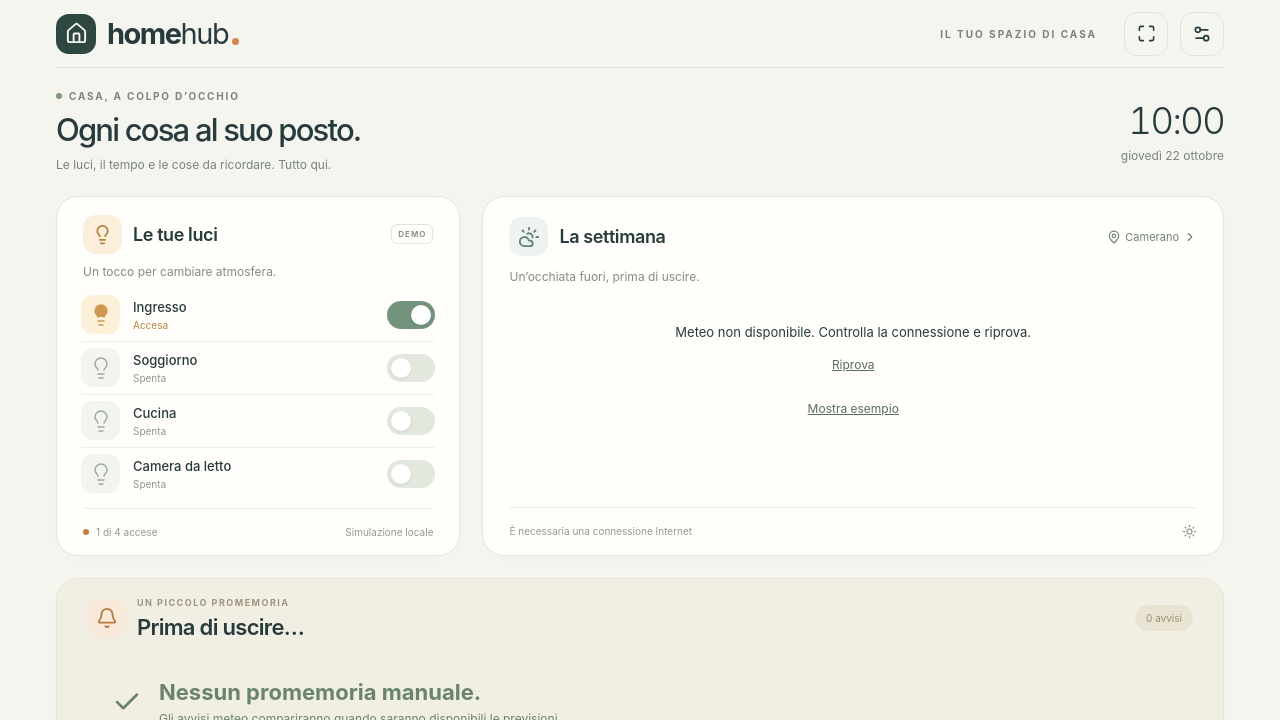
la schermata HomeHub › se la rete fallisce non inventa previsioni e permette di riprovare
Expected: the text "Meteo non disponibile. Controlla la connessione e riprova." is shown, [675,321,1031,343]
Expected: the text "prendi l'ombrello!" is not shown
Click the button "Riprova" at (853, 365), box [675,343,1031,387]
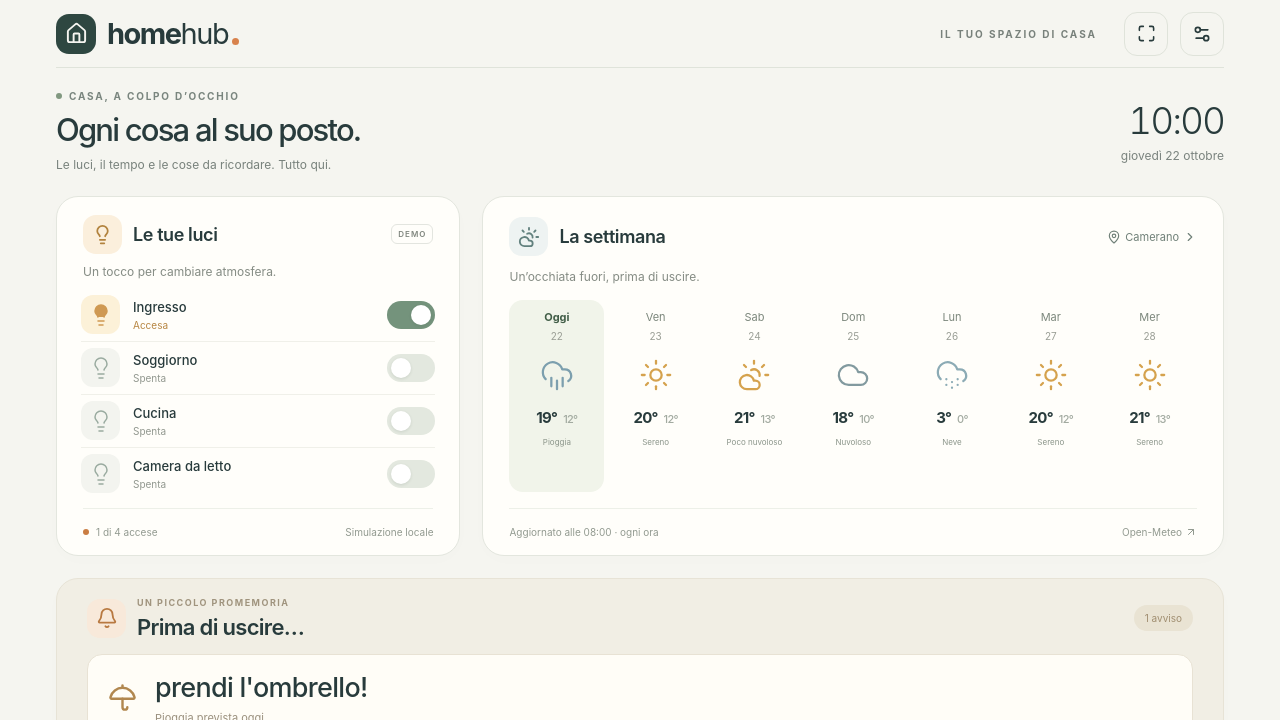
Now the heading "prendi l'ombrello!" is shown, box [155,671,368,704]
